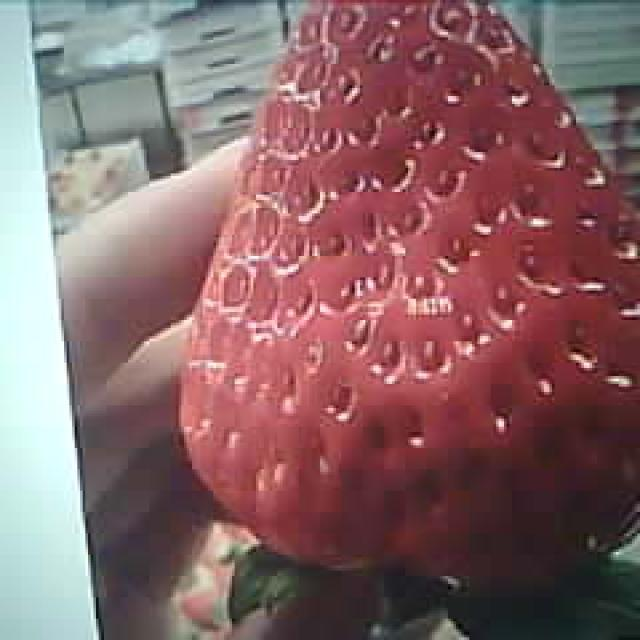ripe: (176, 0, 640, 581)
